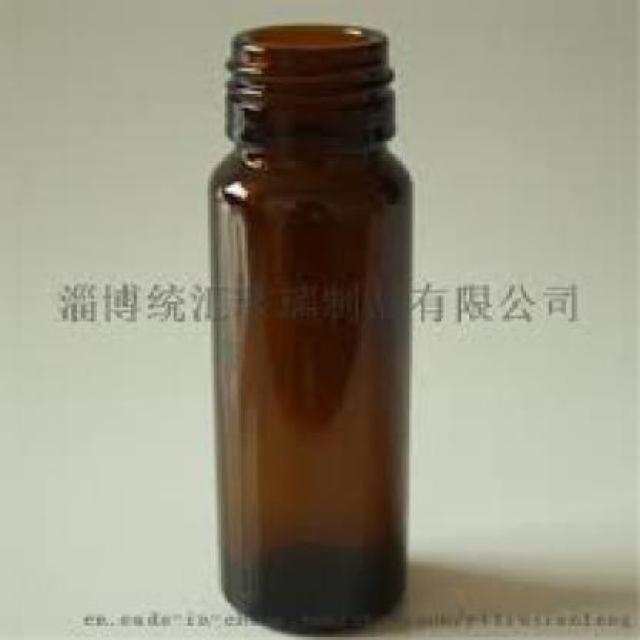kaca: (211, 23, 409, 629)
